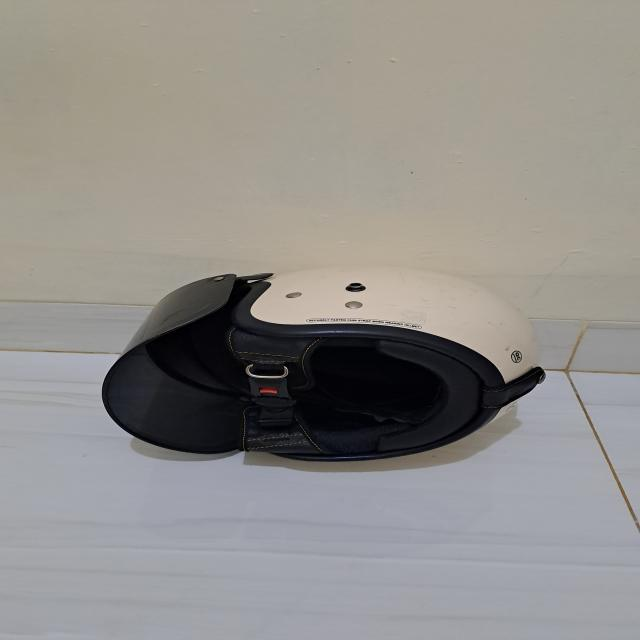Helm: (103, 253, 557, 469)
